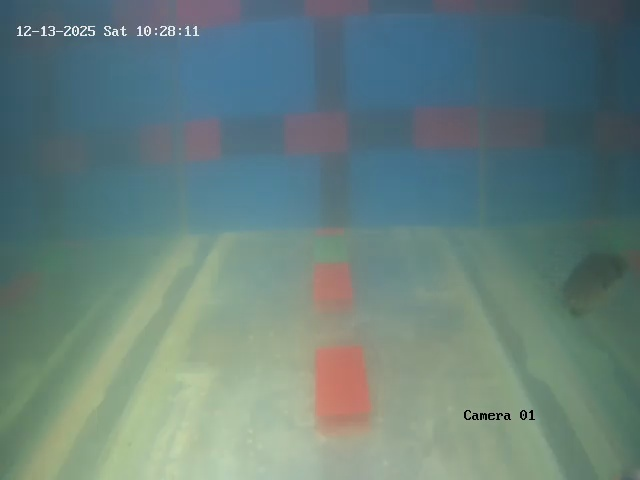fish: (554, 235, 628, 321)
